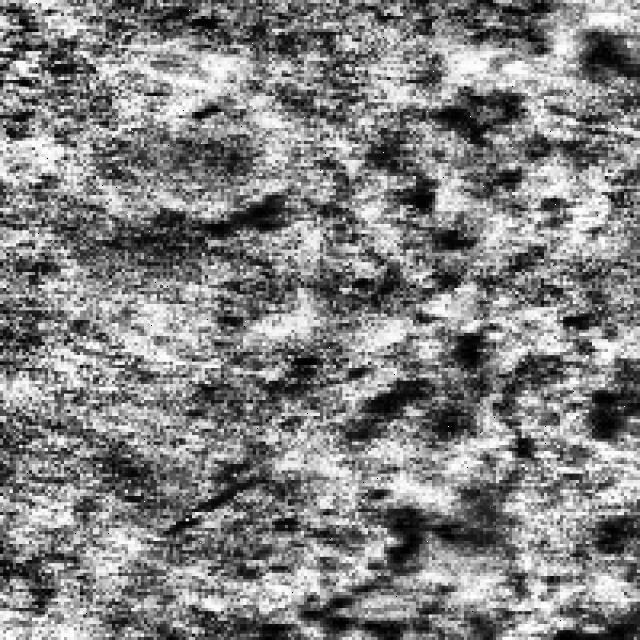Crazing: (230, 320, 640, 630), (230, 83, 544, 275)
